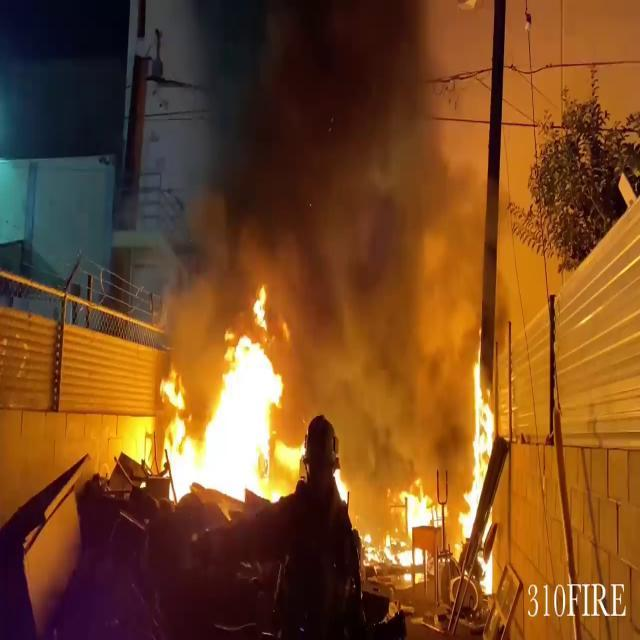Fire: (152, 310, 298, 504), (455, 348, 500, 594), (372, 472, 442, 580)
Smoke: (158, 1, 504, 396)
